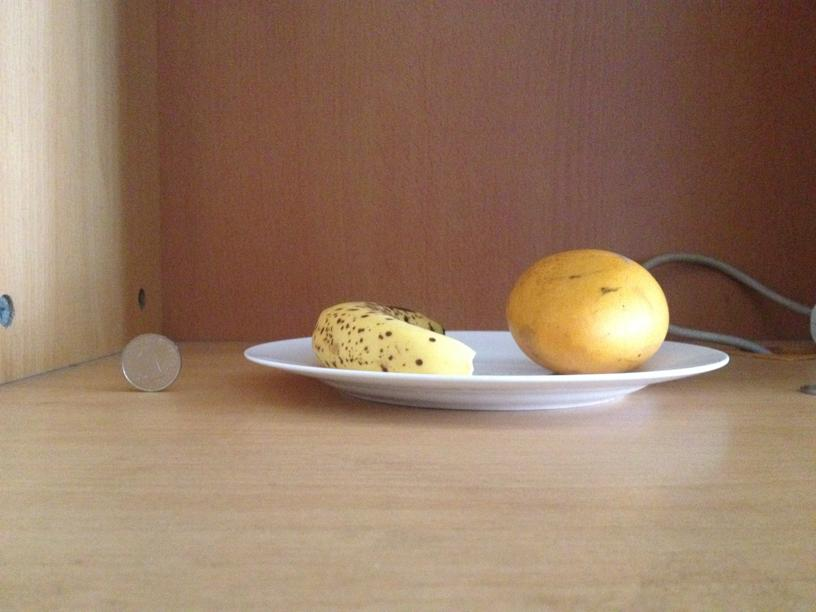banana: (315, 301, 475, 374)
coin: (120, 333, 181, 391)
mango: (510, 250, 670, 372)
